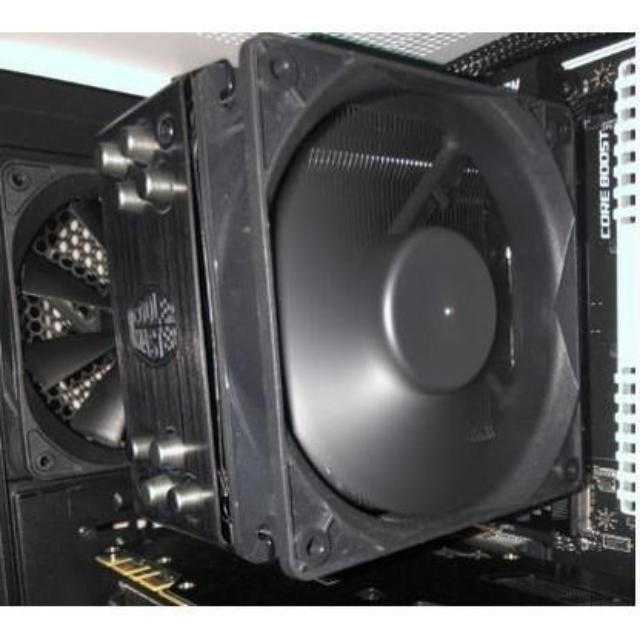CPU_Fan: (94, 23, 588, 557)
